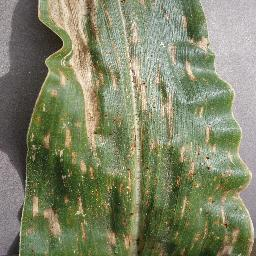Gray_Leaf_Spot: (6, 2, 256, 256)
